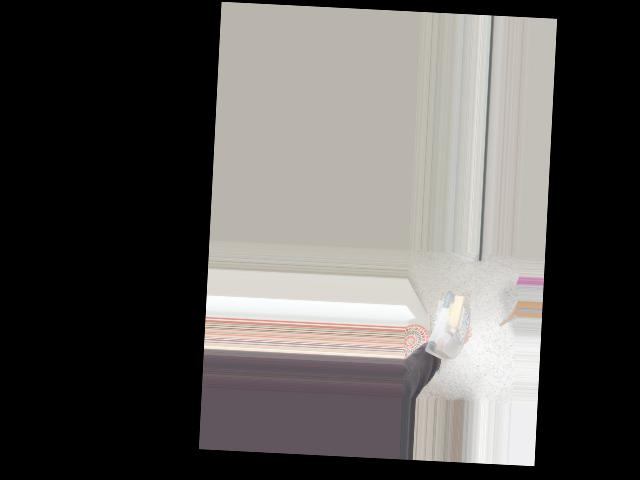cheese: (419, 287, 471, 360)
